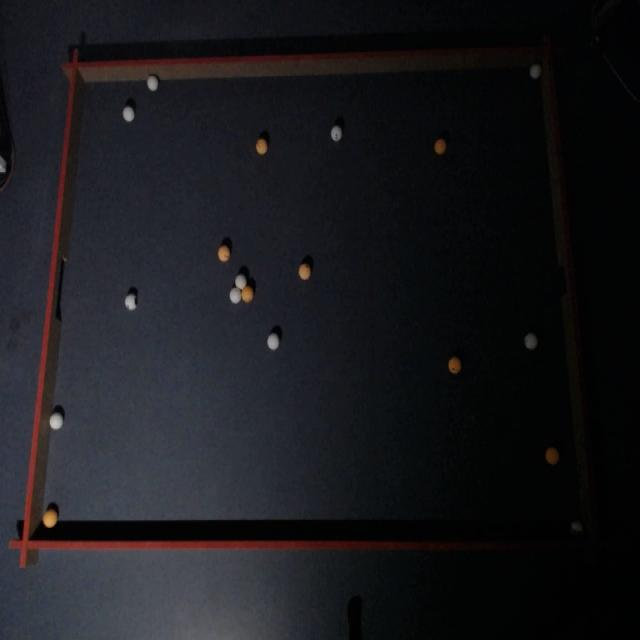orange_ball: (545, 447, 559, 466), (43, 509, 57, 528), (448, 357, 461, 374), (242, 284, 254, 302), (434, 138, 446, 155), (299, 264, 311, 280), (218, 246, 230, 262), (256, 139, 266, 154)
white_ball: (49, 411, 64, 431), (524, 333, 538, 350), (267, 333, 280, 351), (229, 287, 242, 304), (123, 105, 135, 122), (147, 74, 159, 91), (235, 272, 247, 289), (530, 63, 542, 79), (331, 125, 342, 141), (125, 297, 136, 311), (572, 521, 582, 532)
